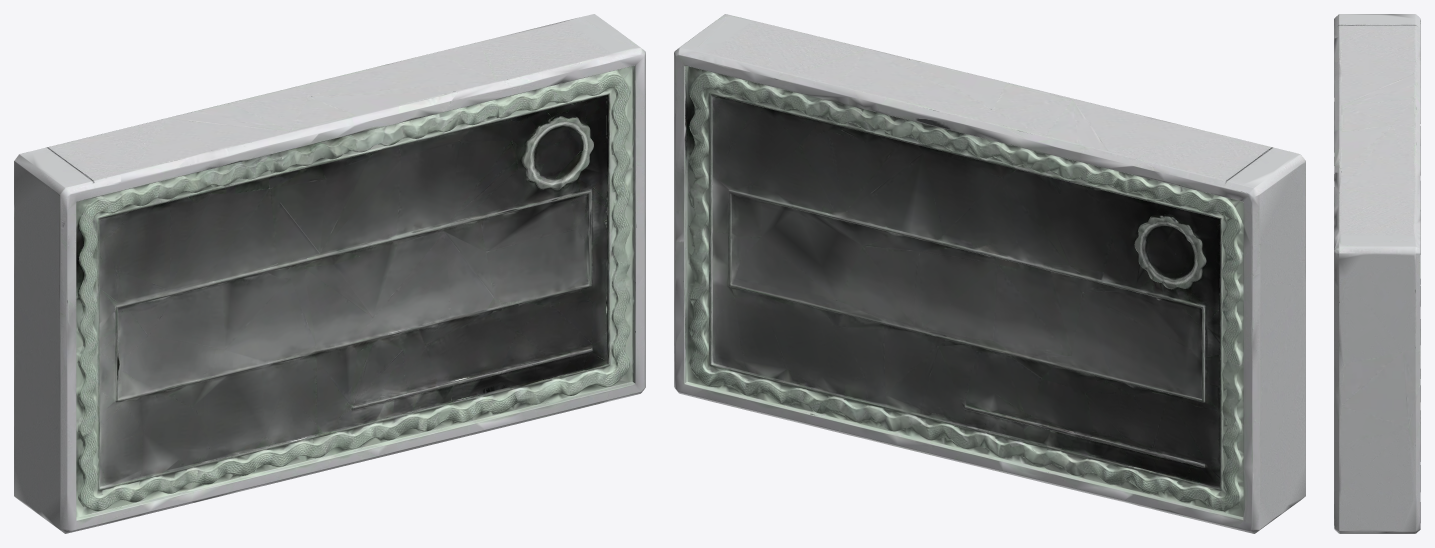
File: big_check.glb
The picture shows the model from 3 angles, left to right: view 1: azimuth 30°, elevation 25°; view 2: azimuth 150°, elevation 25°; view 3: azimuth 270°, elevation 25°; orthographic projection. The views are drawn at different scales.
Bounding box in the file's own units: 1.9 × 1.08 × 0.2943.
1 material, 1 textured.
